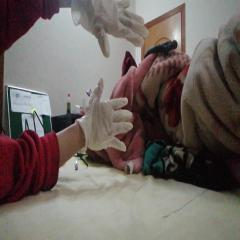gloved: (72, 0, 146, 59), (77, 77, 133, 150)
